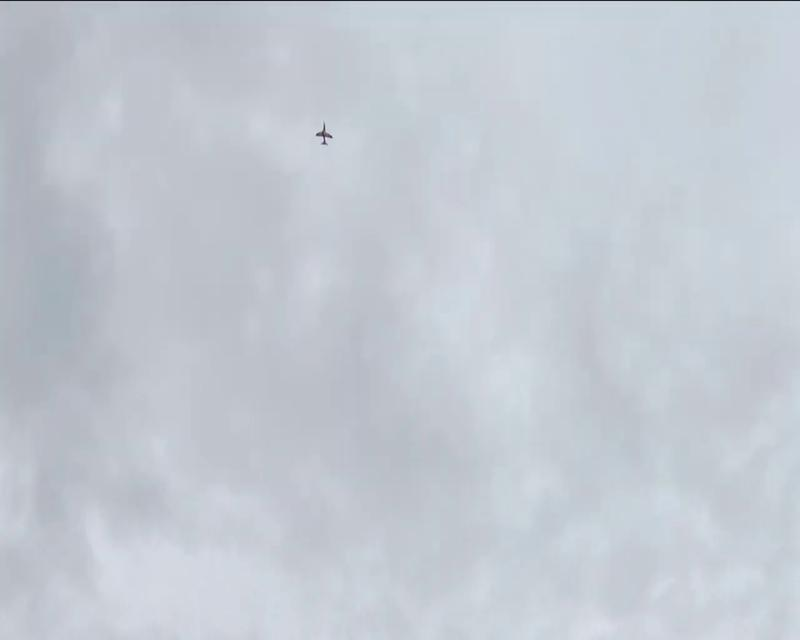UAV: (315, 121, 333, 146)
